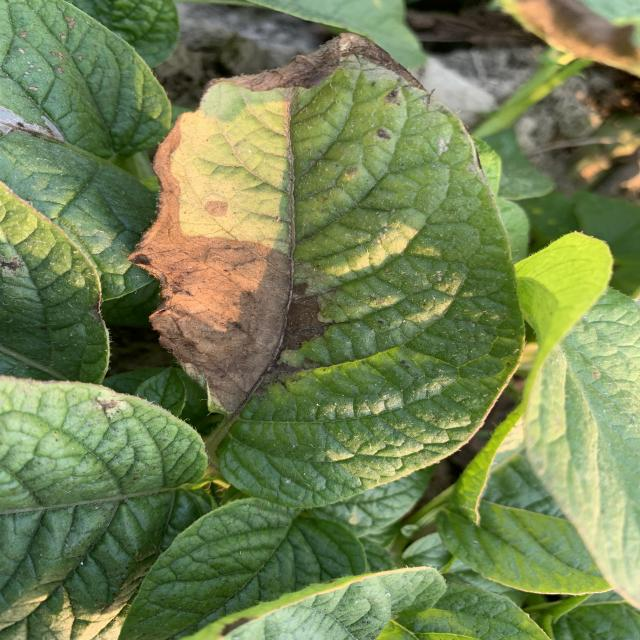lateblight: (130, 181, 292, 390), (208, 34, 423, 91), (288, 261, 343, 331)
